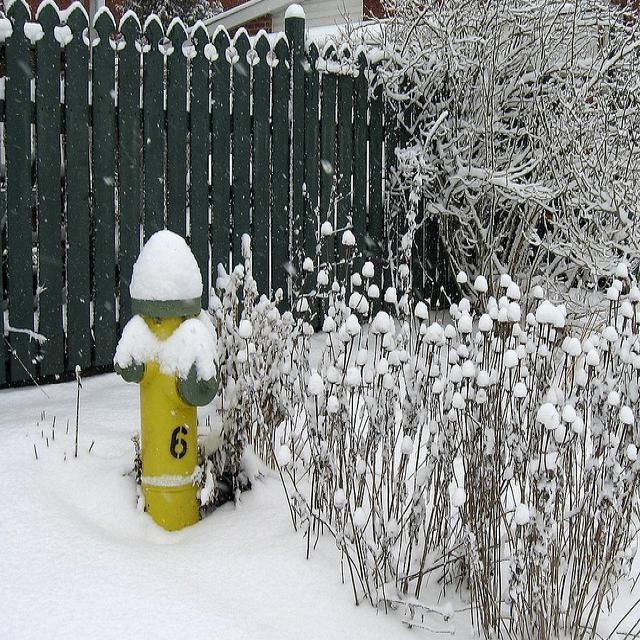fire_hydrant: (115, 228, 215, 526)
